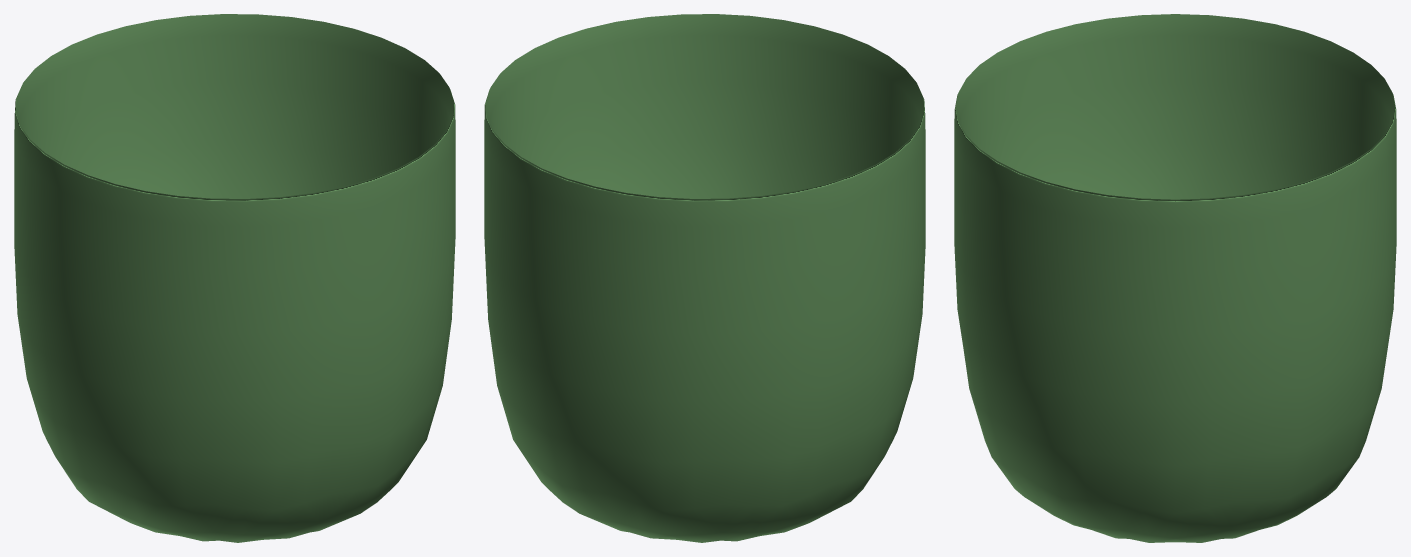
Rendered from TrashCan.fbx.
3 views of the same model, side by side, from view 1: azimuth 30°, elevation 25°; view 2: azimuth 150°, elevation 25°; view 3: azimuth 270°, elevation 25° (orthographic).
Visible parts, largest first — view 1: pCylinder7; view 2: pCylinder7; view 3: pCylinder7.
Part boxes in pixels (x1=…): pCylinder7: x1=14, y1=14, x2=455, y2=542; pCylinder7: x1=484, y1=14, x2=925, y2=542; pCylinder7: x1=954, y1=14, x2=1396, y2=542.
Size of the model in its own units: 1.88 by 1.8 by 1.88.
